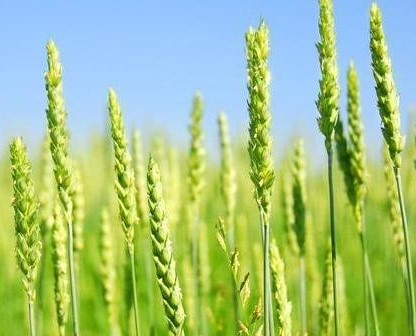Healthy Wheat: (140, 152, 188, 327)
